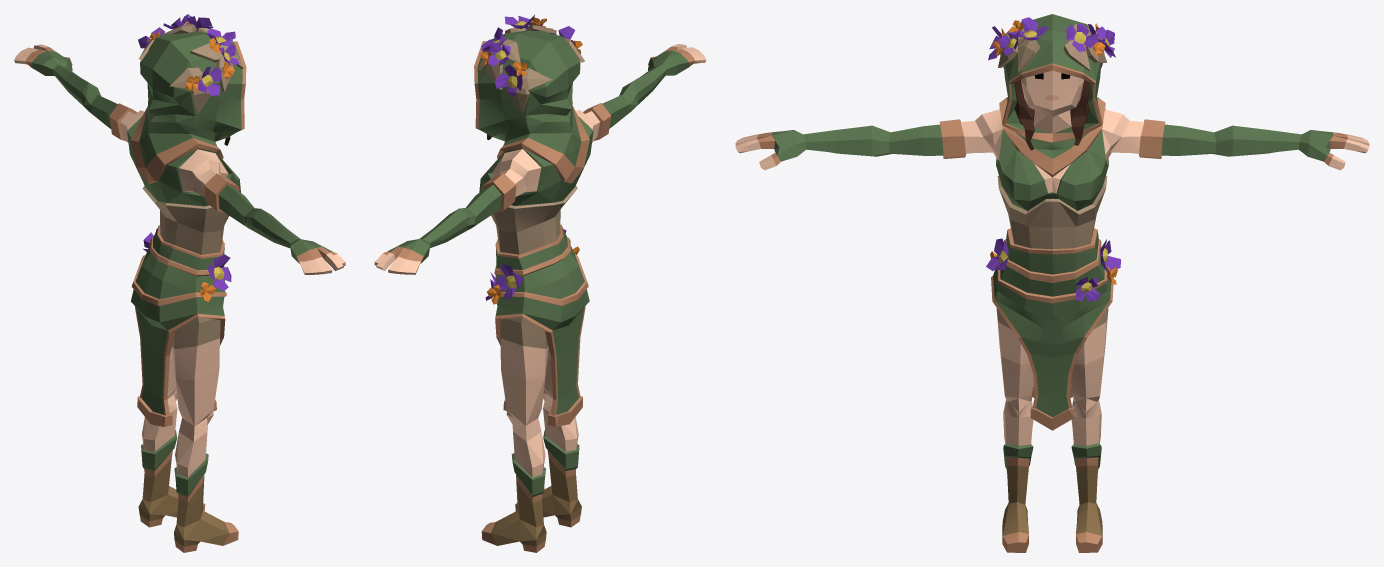
File: mujer_heroe.glb
3 renders of one model, left to right at view 1: azimuth 30°, elevation 25°; view 2: azimuth 150°, elevation 25°; view 3: azimuth 270°, elevation 25°, orthographic. The views are drawn at different scales.
Visible parts, largest first — view 1: Character_Female_Druid; view 2: Character_Female_Druid; view 3: Character_Female_Druid.
Boxes of the visible parts, x1,y1,x2,y2 form: Character_Female_Druid: [14, 14, 345, 552]; Character_Female_Druid: [374, 15, 706, 552]; Character_Female_Druid: [735, 14, 1369, 552].
Size of the model in its own units: 0.7426 by 3.73 by 4.08.
Materials: 1 (1 with a texture image).
